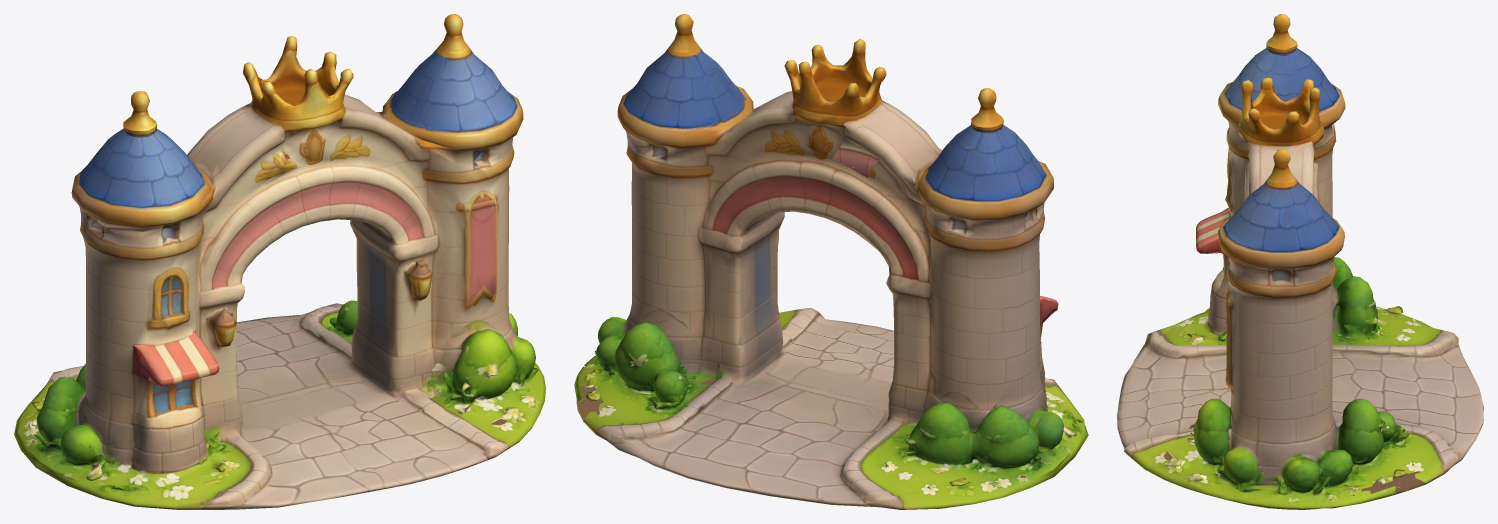
The model's file is 23-city-gate.glb.
3 views of the same model, side by side, from view 1: azimuth 30°, elevation 25°; view 2: azimuth 150°, elevation 25°; view 3: azimuth 270°, elevation 25° (orthographic). The views are drawn at different scales.
Visible parts, largest first — view 1: tripo_node_8ae40ac5-036c-4340-9884-775dc8e29e3e; view 2: tripo_node_8ae40ac5-036c-4340-9884-775dc8e29e3e; view 3: tripo_node_8ae40ac5-036c-4340-9884-775dc8e29e3e.
Boxes of the visible parts, x1,y1,x2,y2 form: tripo_node_8ae40ac5-036c-4340-9884-775dc8e29e3e: (14,14,545,509); tripo_node_8ae40ac5-036c-4340-9884-775dc8e29e3e: (574,14,1088,509); tripo_node_8ae40ac5-036c-4340-9884-775dc8e29e3e: (1117,14,1483,509).
Bounding box in the file's own units: 0.9678 × 0.7058 × 0.7216.
Materials: 1 (1 with a texture image).
